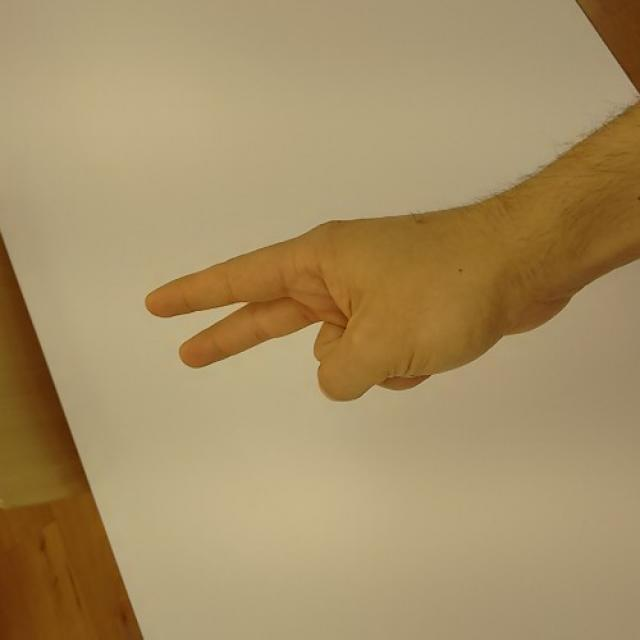scissors: (142, 208, 548, 402)
